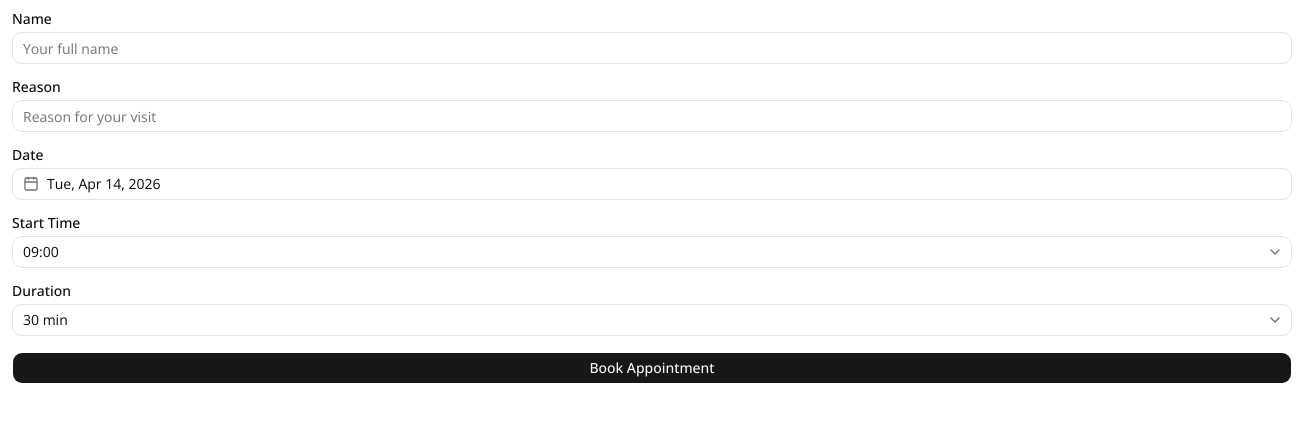
Test: BookingForm › create mode (no booking prop) › validation › shows name field error when name is empty on submit
Type "Some reason" into the field labelled "Reason" at (652, 116), box top-left (12, 100), bottom-right (1292, 132)
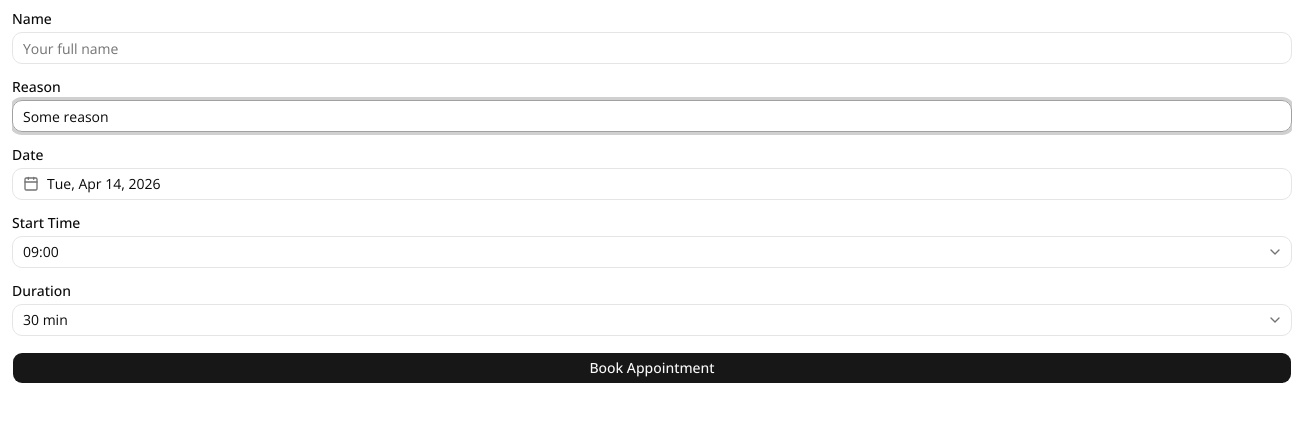
Click the button "Book Appointment" at (652, 368), box top-left (12, 352), bottom-right (1292, 384)
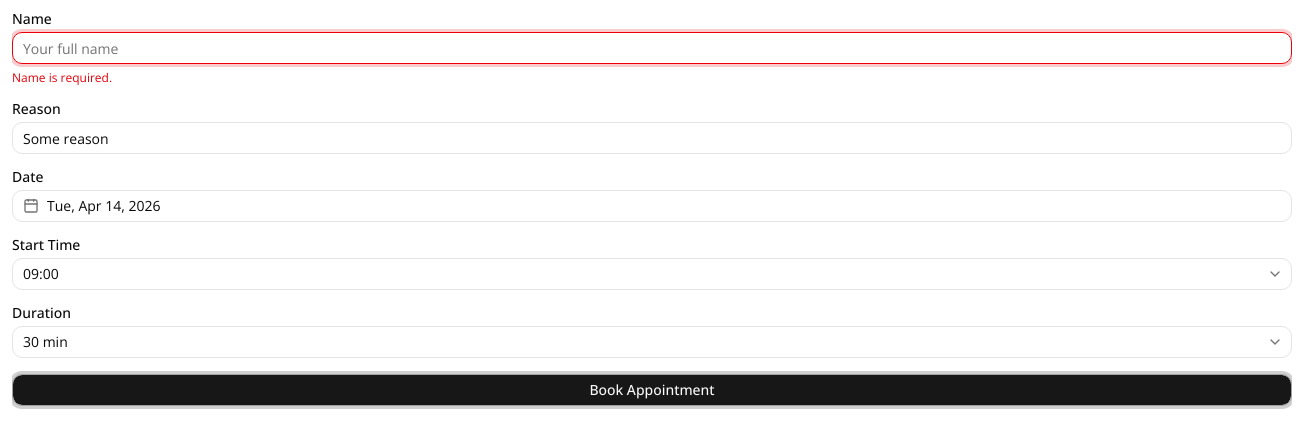
Check: the message reads "Name is required.", box top-left (12, 69), bottom-right (112, 86)
